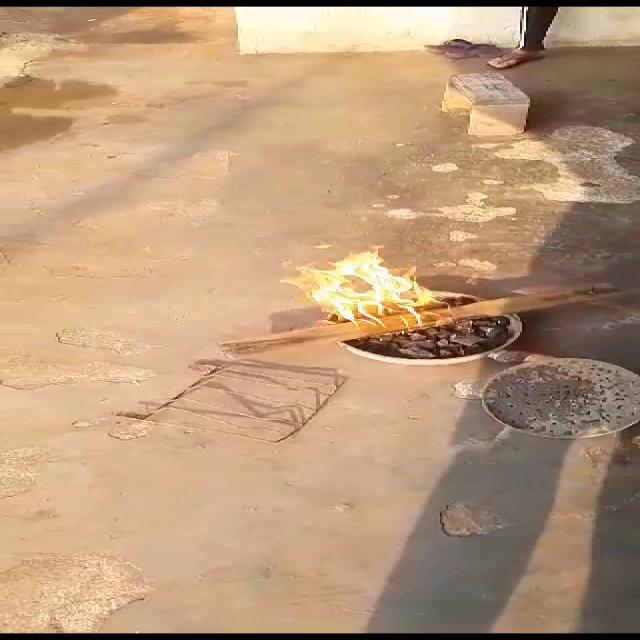Fire: (270, 246, 477, 338)
